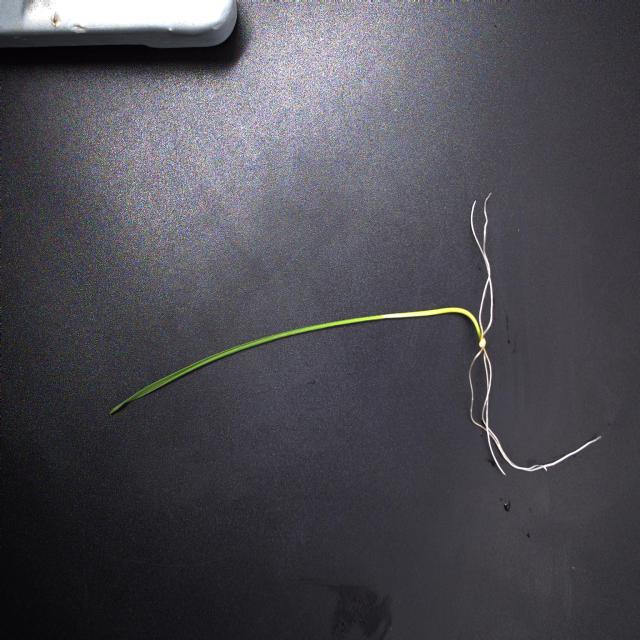leaf: (109, 313, 384, 413)
root: (468, 193, 599, 474)
stem: (380, 306, 482, 341)
